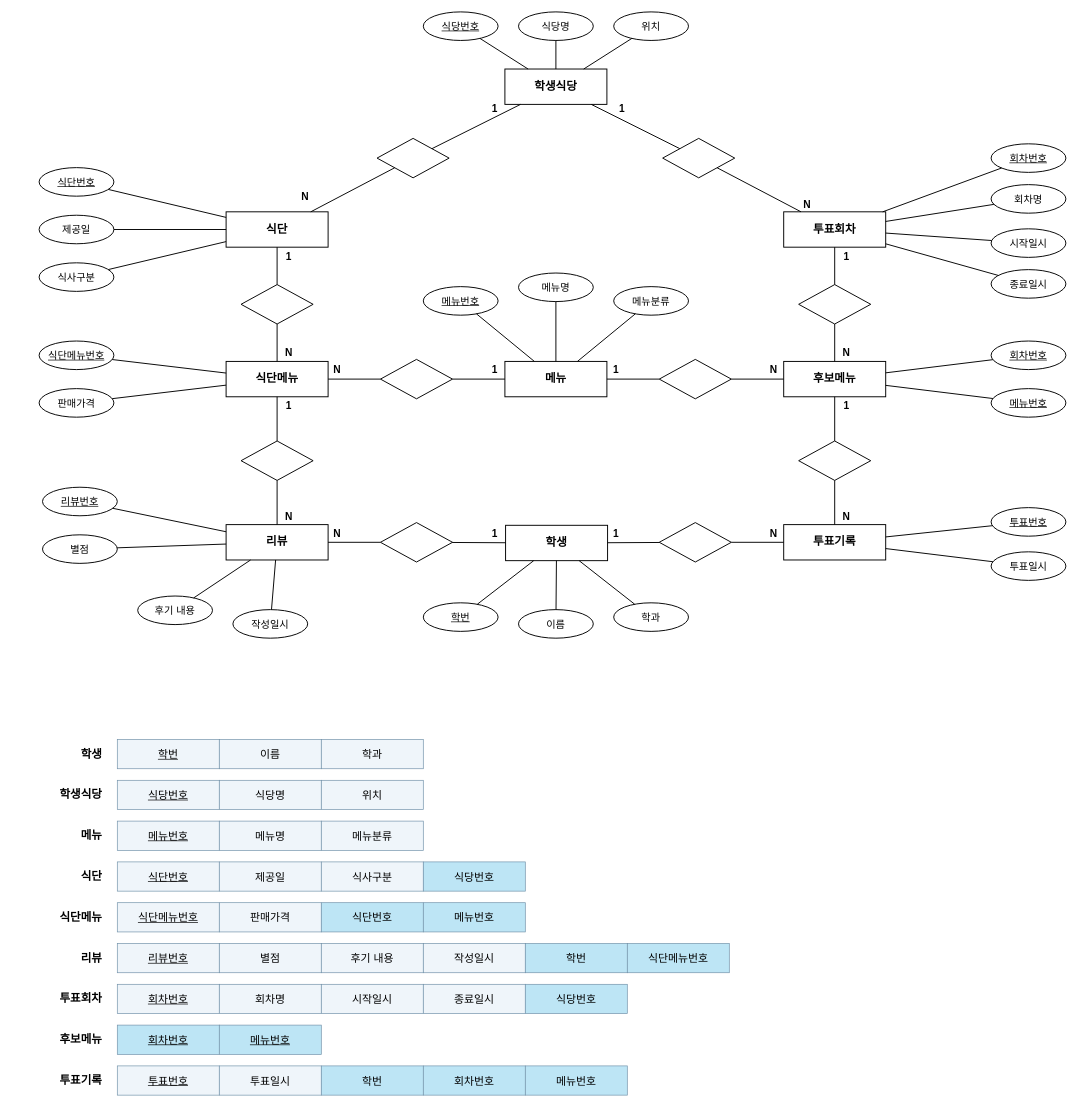
Image size: 1078x1108. Some labels were removed from this diagram. The centre of each missing label's shape, as x and y in pixels:
"개최" goes at point (698, 158).
"구성" goes at point (276, 304).
"대상" goes at point (276, 460).
"등록" goes at point (834, 304).
"선택" goes at point (834, 460).
"작성" goes at point (416, 542).
"제공" goes at point (416, 379).
"참여" goes at point (694, 542).
"편성" goes at point (412, 158).
"후보 지정" goes at point (694, 379).
